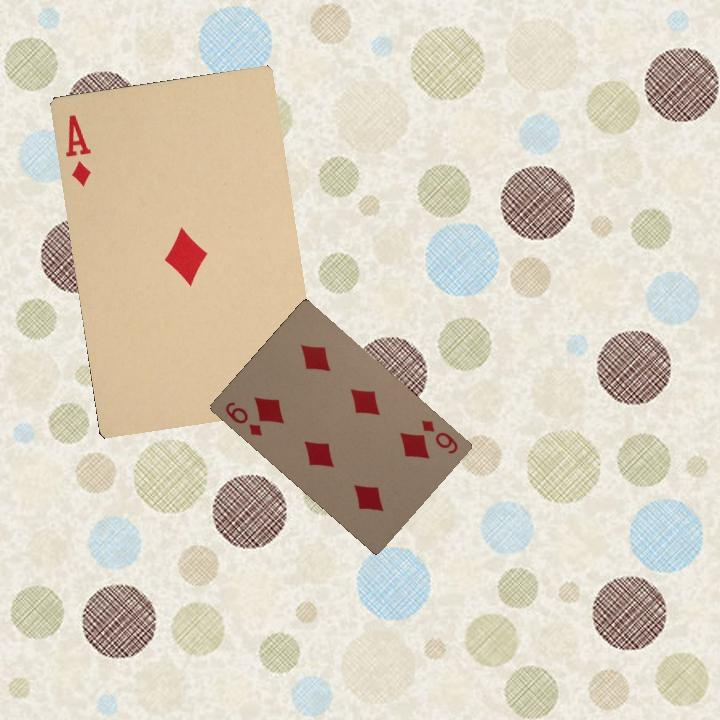6d: (221, 398, 265, 439), (417, 416, 460, 457)
Ad: (61, 110, 94, 187)
